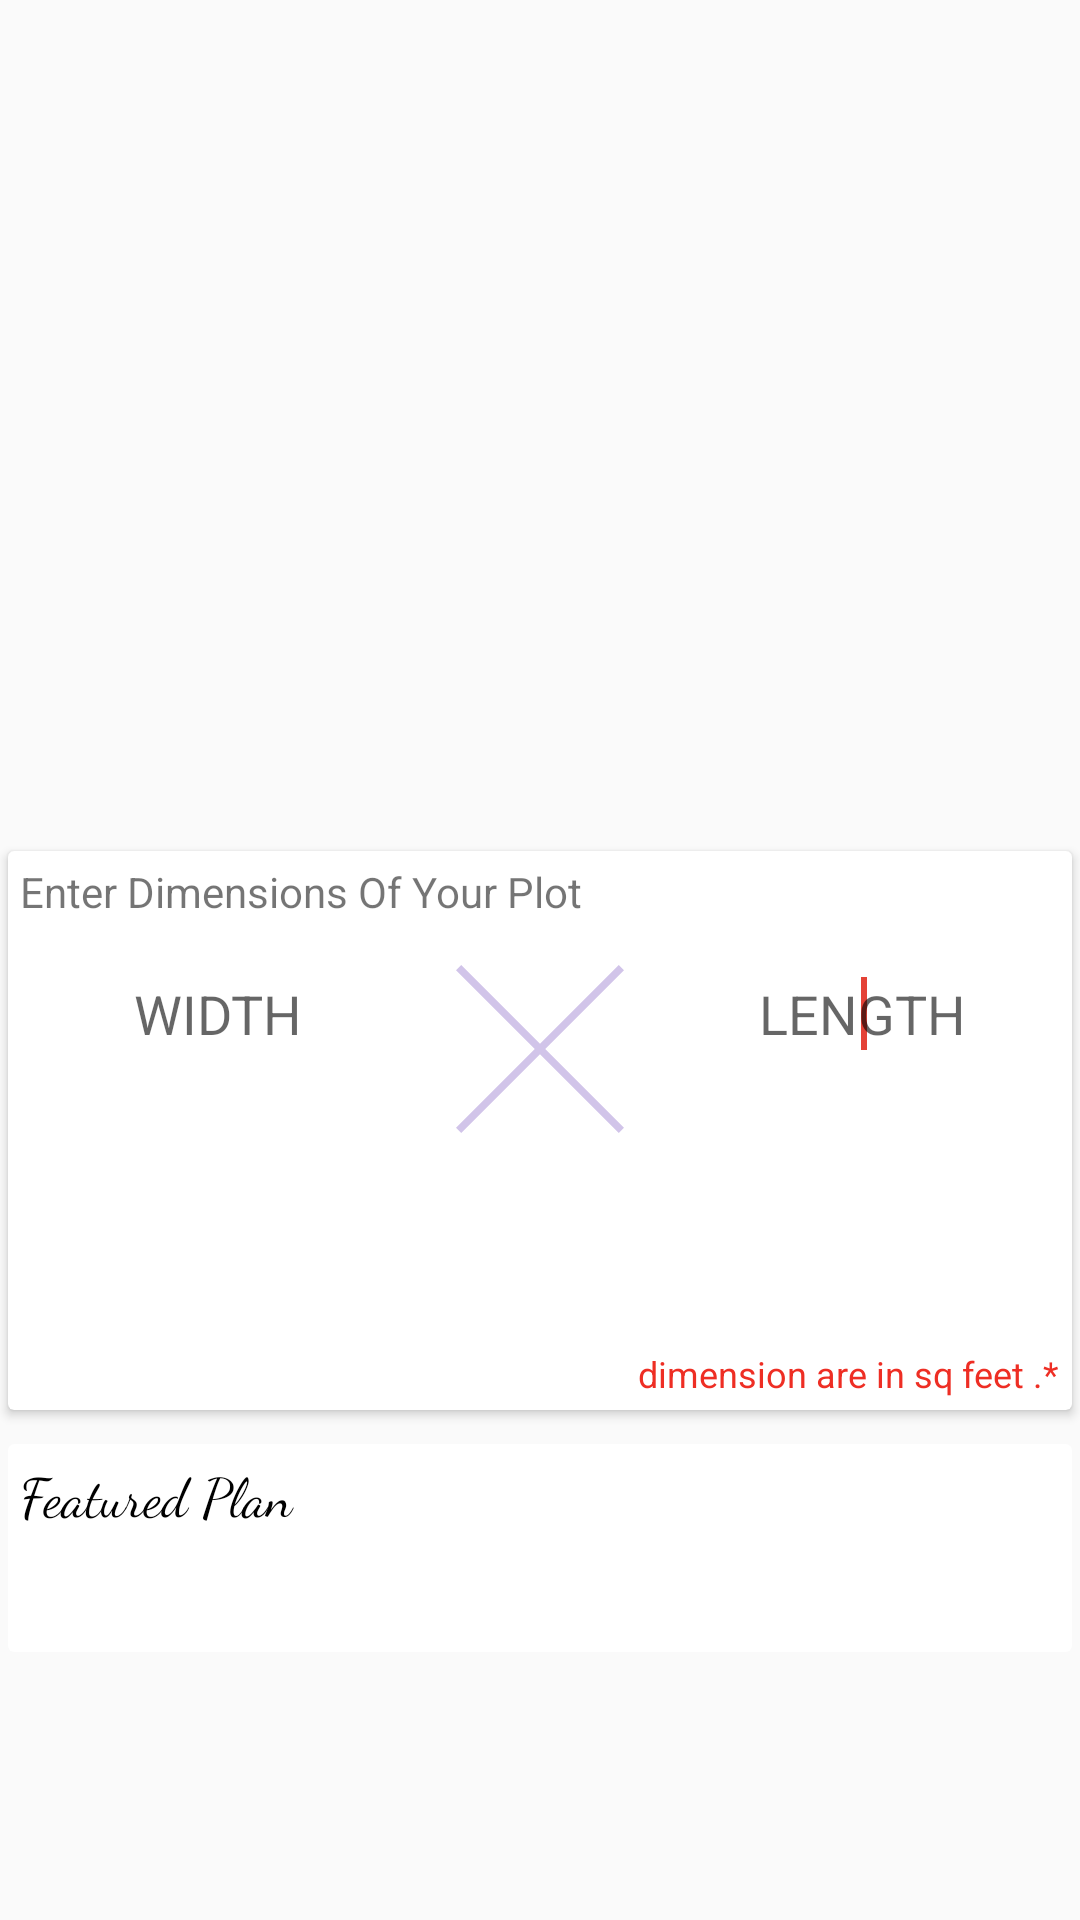

Icon click points for this 1080w x 1920h phone screenshot, format point (x, y):
cross: point (540, 1049)
